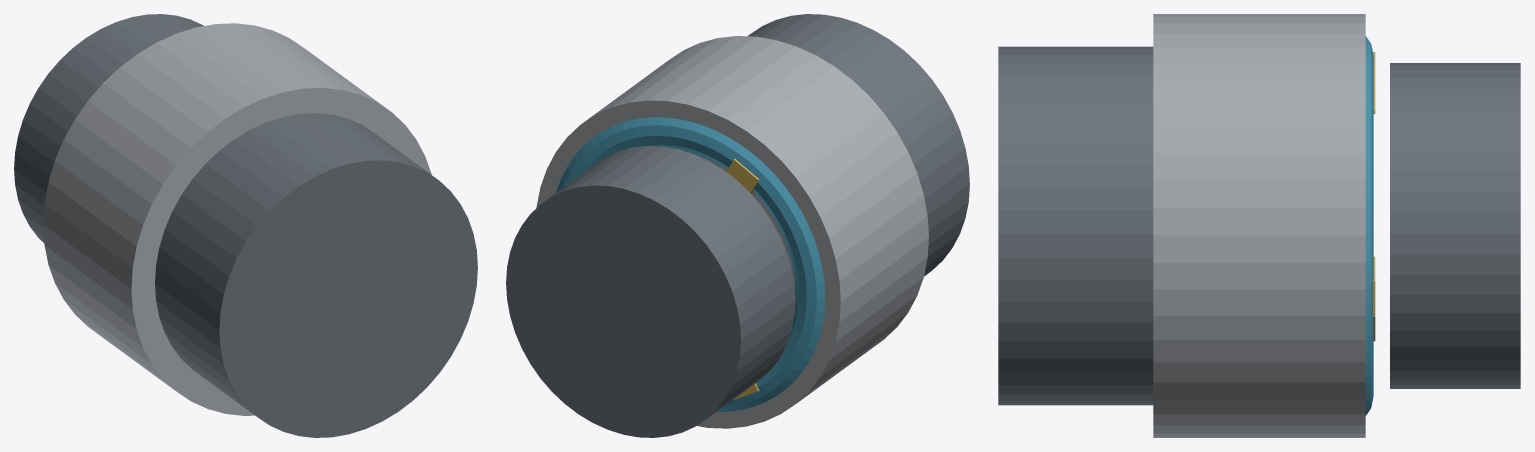
Rendered from dranmar_universal_tool_changer.glb.
3 renders of one model, left to right at view 1: azimuth 30°, elevation 25°; view 2: azimuth 150°, elevation 25°; view 3: azimuth 270°, elevation 25°, orthographic. The views are drawn at different scales.
Parts seen in each view (by area): view 1: mount, body, tool_adapter; view 2: tool_adapter, body, mount, lock_ring, latch_1; view 3: body, mount, tool_adapter, lock_ring.
Part boxes in pixels (x1=…): mount: x1=155, y1=113, x2=477, y2=437; body: x1=43, y1=23, x2=431, y2=415; tool_adapter: x1=14, y1=14, x2=203, y2=242; tool_adapter: x1=506, y1=146, x2=795, y2=437; body: x1=536, y1=36, x2=928, y2=428; mount: x1=748, y1=14, x2=969, y2=276; lock_ring: x1=556, y1=117, x2=825, y2=411; latch_1: x1=726, y1=159, x2=759, y2=193; body: x1=1153, y1=14, x2=1365, y2=437; mount: x1=998, y1=46, x2=1153, y2=405; tool_adapter: x1=1390, y1=63, x2=1520, y2=388; lock_ring: x1=1365, y1=36, x2=1373, y2=415.
Size of the model in its own units: 0.13 by 0.13 by 0.16.
